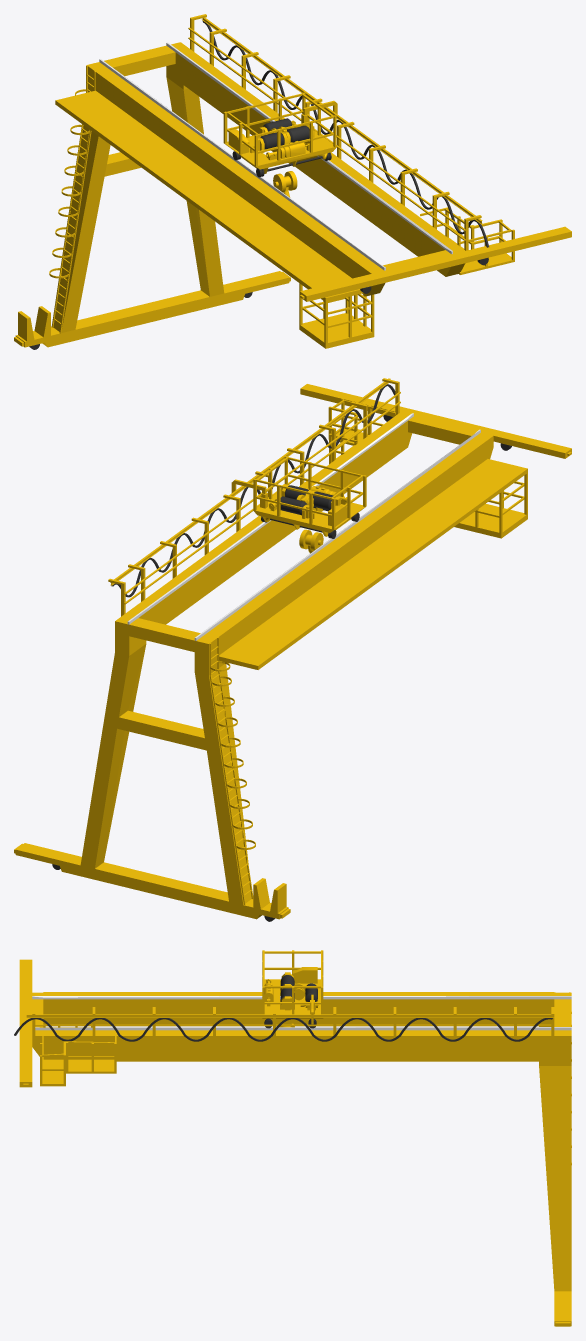
3 views of the same model, one above another, from view 1: azimuth 30°, elevation 25°; view 2: azimuth 150°, elevation 25°; view 3: azimuth 270°, elevation 25° (orthographic). The views are drawn at different scales.
Visible parts, largest first — view 1: 1_Bay_C_864_Body, 1_Bay_C_864_Head_01, 1_Bay_C_863_Head_Hook_01.001; view 2: 1_Bay_C_864_Body, 1_Bay_C_864_Head_01; view 3: 1_Bay_C_864_Body, 1_Bay_C_864_Head_01.
Boxes of the visible parts, left/top/right/bottom form: 1_Bay_C_864_Body: left=14, top=14, right=571, bottom=349; 1_Bay_C_864_Head_01: left=223, top=92, right=337, bottom=177; 1_Bay_C_863_Head_Hook_01.001: left=273, top=171, right=297, bottom=197; 1_Bay_C_864_Body: left=14, top=378, right=571, bottom=921; 1_Bay_C_864_Head_01: left=231, top=456, right=366, bottom=538; 1_Bay_C_864_Body: left=14, top=959, right=571, bottom=1326; 1_Bay_C_864_Head_01: left=262, top=950, right=323, bottom=1028.
Size of the model in its own units: 9.42 by 10.49 by 17.87.
